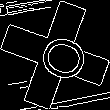O_W: (23, 26, 87, 84)
